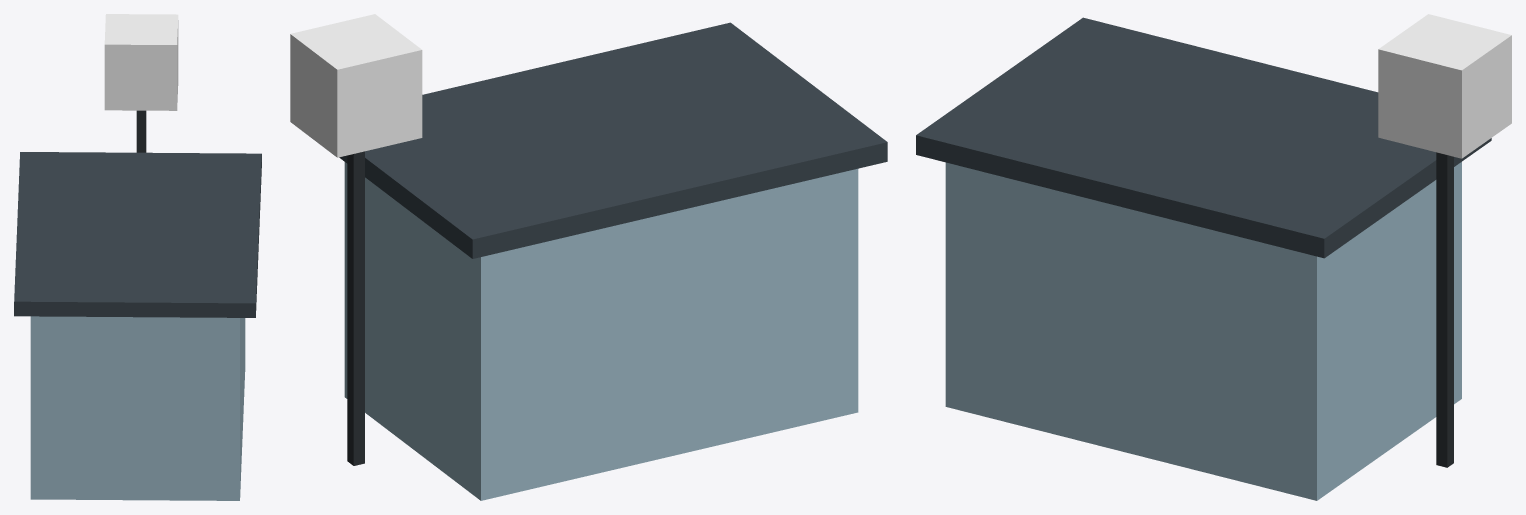
File: 2671-Transit-metro-track-and-station-140-m-of-track-its-way-down.glb
3 views of the same model, side by side, from view 1: azimuth 30°, elevation 25°; view 2: azimuth 150°, elevation 25°; view 3: azimuth 270°, elevation 25° (orthographic). The views are drawn at different scales.
Visible parts, largest first — view 1: transit-roofs, transit-glass, transit-signs, transit-posts; view 2: transit-glass, transit-roofs, transit-signs, transit-posts; view 3: transit-glass, transit-roofs, transit-signs, transit-posts.
Part boxes in pixels (x1=…): transit-roofs: x1=14, y1=152, x2=261, y2=317; transit-glass: x1=30, y1=316, x2=245, y2=500; transit-signs: x1=104, y1=14, x2=178, y2=110; transit-posts: x1=136, y1=110, x2=146, y2=152; transit-glass: x1=344, y1=162, x2=858, y2=500; transit-roofs: x1=339, y1=22, x2=887, y2=258; transit-signs: x1=290, y1=14, x2=422, y2=157; transit-posts: x1=347, y1=151, x2=364, y2=465; transit-glass: x1=945, y1=162, x2=1461, y2=500; transit-roofs: x1=916, y1=17, x2=1491, y2=258; transit-signs: x1=1378, y1=14, x2=1511, y2=158; transit-posts: x1=1436, y1=152, x2=1453, y2=467.
Bounding box in the file's own units: 4.84 × 4.3 × 5.51.
